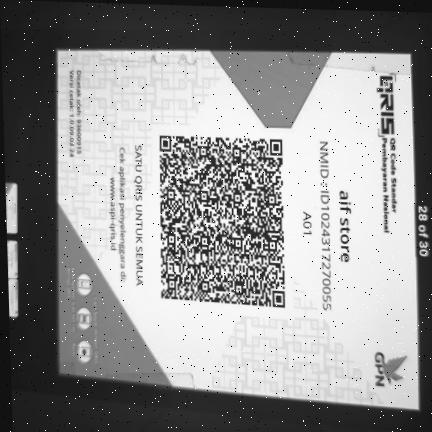Cara Pakai QRIS: (61, 260, 103, 375)
Cek Aplikasi Penyelenggara: (103, 138, 129, 291)
Dicetak Oleh: (76, 65, 85, 160)
Logo GPN: (369, 347, 412, 395)
Logo dan deskripsi QRIS: (373, 65, 404, 245)
Nama Merchant: (336, 187, 356, 268)
National Merchant ID: (315, 135, 336, 318)
QR Code: (156, 130, 291, 313)
Slogan: (131, 139, 146, 293)
Terminal ID: (299, 205, 315, 241)
Versi Cetak: (67, 65, 75, 164)
